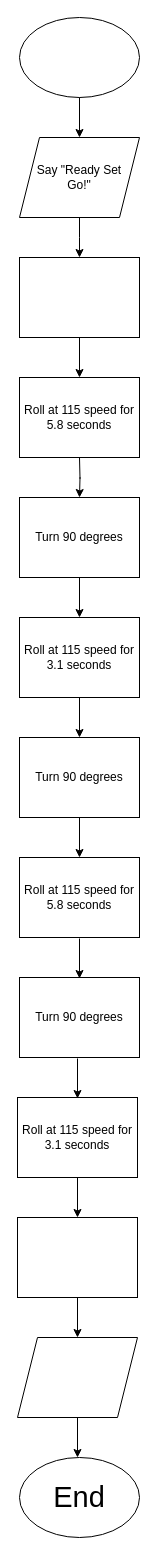
Image size: 157x1555. Some labels were removed from this diagram. The shapes that lost their labels are listed below. From the top down, each one's centre as x and y in pixels, then its label:
point (79, 57): Start
point (79, 297): Turn green
point (77, 1257): Turn red
point (77, 1377): Say "I'm done and I need water!"
